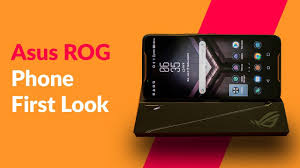asus: (137, 31, 285, 106)
